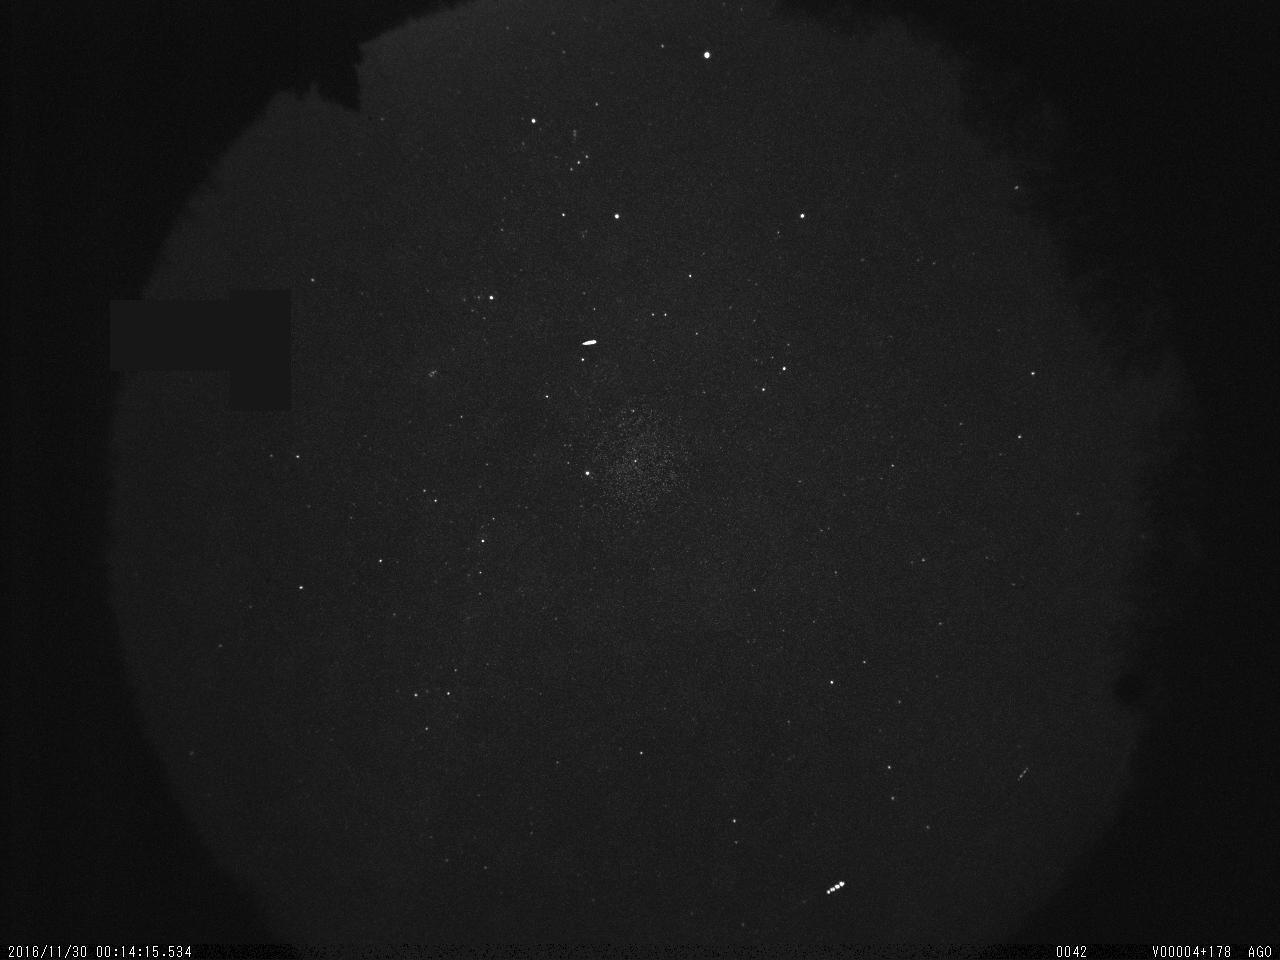Meteor: (577, 336, 601, 350)
